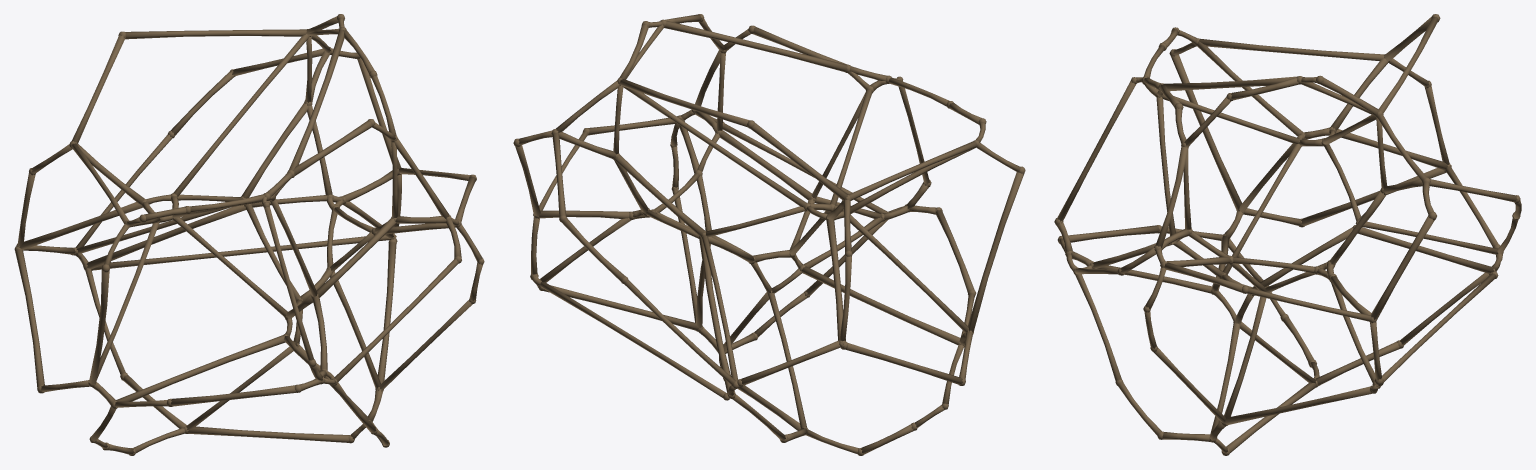
The model's file is reticulite-clast.glb.
3 views of the same model, side by side, from view 1: azimuth 30°, elevation 25°; view 2: azimuth 150°, elevation 25°; view 3: azimuth 270°, elevation 25° (orthographic). The views are drawn at different scales.
Parts seen in each view (by area): view 1: irregular-three-dimensional-open-cell-glass-strut-foam; view 2: irregular-three-dimensional-open-cell-glass-strut-foam; view 3: irregular-three-dimensional-open-cell-glass-strut-foam.
Boxes of the visible parts, box(x1,y1,x2,y2) form: irregular-three-dimensional-open-cell-glass-strut-foam: box(14, 14, 484, 455); irregular-three-dimensional-open-cell-glass-strut-foam: box(513, 14, 1025, 455); irregular-three-dimensional-open-cell-glass-strut-foam: box(1054, 14, 1521, 455).
Size of the model in its own units: 0.16 by 0.1438 by 0.1528.
